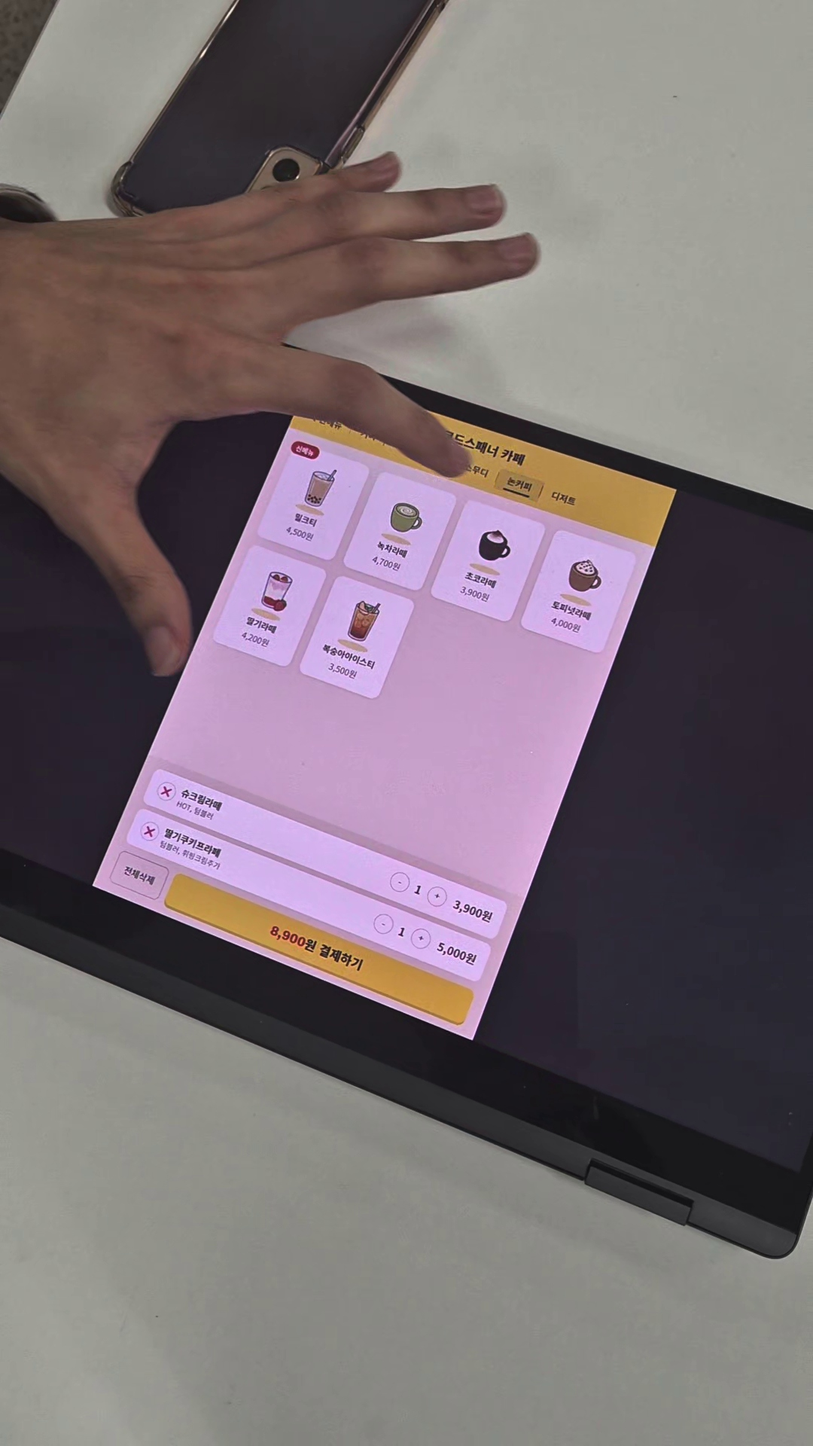action_button: (163, 871, 479, 1028), (106, 850, 172, 904)
cart_item: (121, 807, 497, 988), (139, 767, 514, 943)
category_tab: (501, 471, 541, 498), (547, 488, 582, 511)
menu_back: (199, 543, 330, 679), (290, 571, 417, 709), (516, 526, 641, 664), (422, 496, 549, 631), (247, 435, 375, 567), (336, 467, 458, 596)
menu_name: (159, 823, 226, 862), (319, 640, 380, 672), (177, 789, 232, 817), (546, 598, 596, 625), (238, 611, 284, 638), (462, 569, 500, 591), (373, 539, 412, 560), (287, 508, 324, 530)
menu_price: (427, 936, 484, 972), (448, 896, 498, 928), (234, 627, 274, 652), (455, 582, 493, 605), (323, 660, 362, 682), (369, 552, 404, 575), (546, 615, 584, 635), (282, 523, 316, 544)
